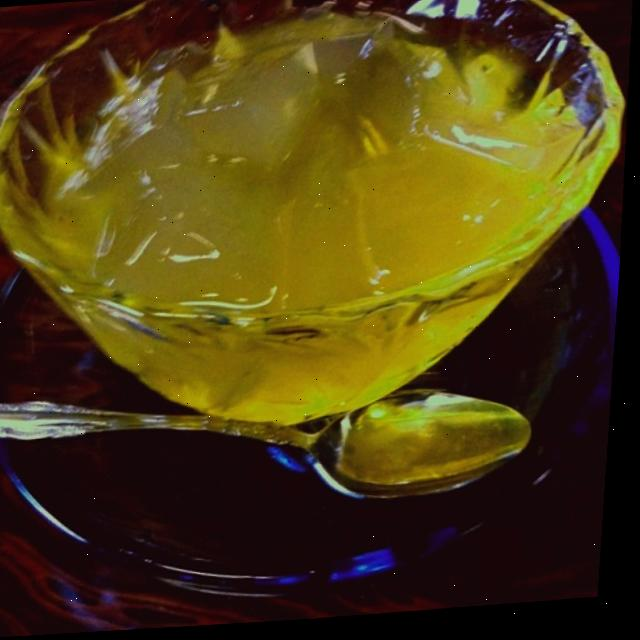蛋糕甜品: (0, 0, 623, 570)
